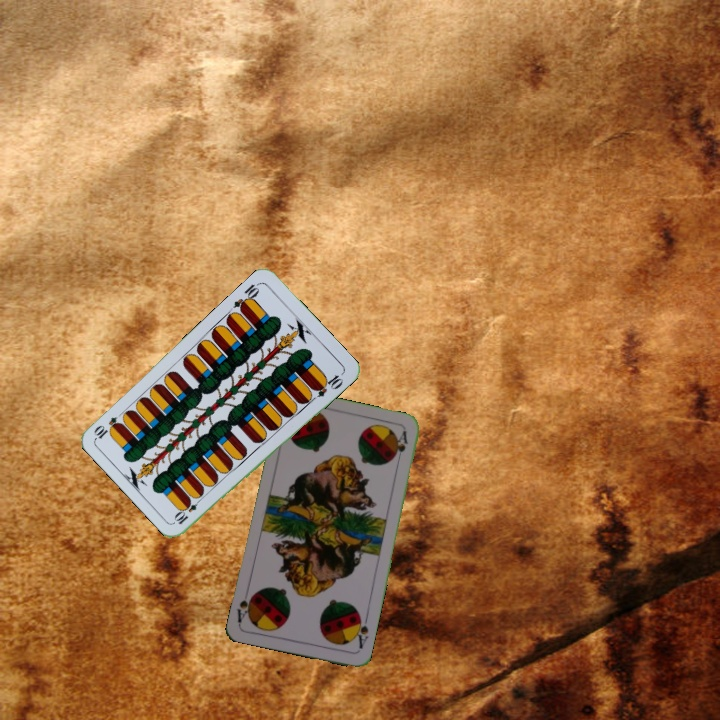E10: (171, 493, 205, 527), (229, 279, 262, 314)
SA: (350, 611, 371, 651)
